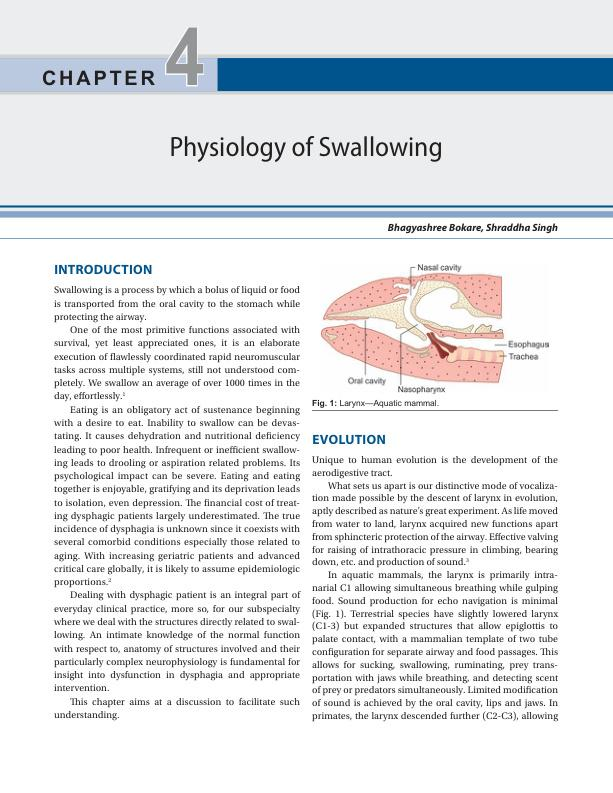caption: (311, 399, 439, 409)
chapter-heading: (168, 133, 443, 165)
image: (311, 256, 560, 397)
section-heading: (53, 263, 153, 275), (312, 433, 387, 445)
text: (52, 285, 301, 722), (311, 454, 559, 722)
